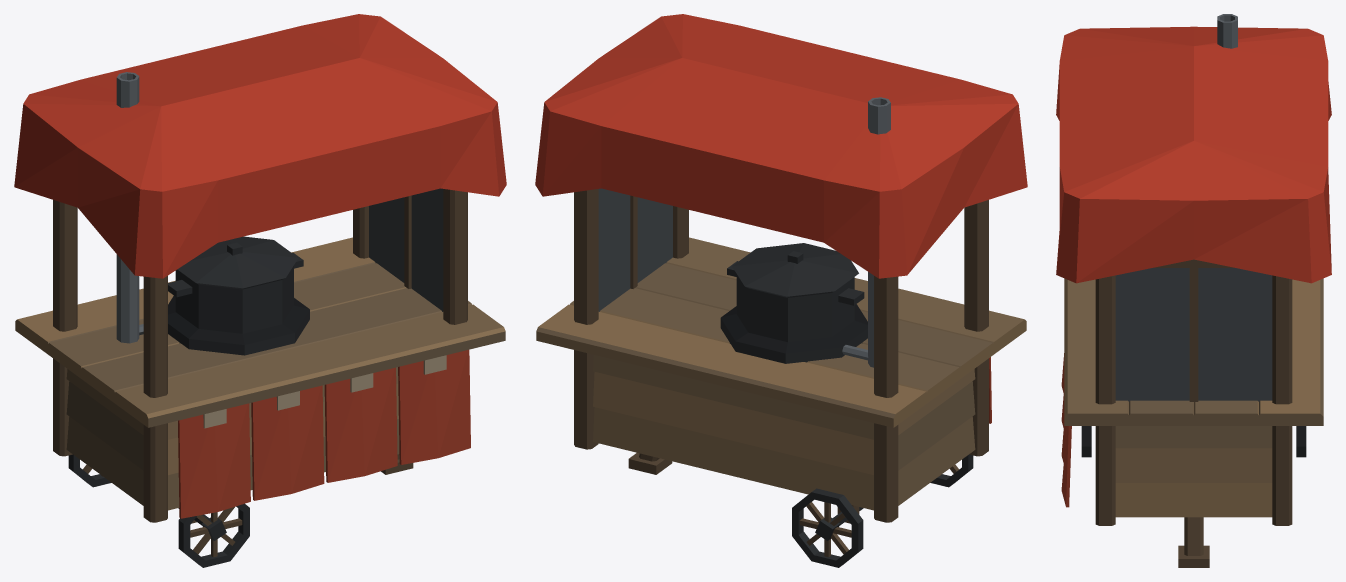
The model's file is ramen-yatai-stall-53974b.glb.
3 renders of one model, left to right at view 1: azimuth 30°, elevation 25°; view 2: azimuth 150°, elevation 25°; view 3: azimuth 270°, elevation 25°, orthographic. The views are drawn at different scales.
Visible parts, largest first — view 1: stall, stock-pot-mesh, wheel-front-mesh; view 2: stall, stock-pot-mesh, wheel-back-mesh; view 3: stall.
Part boxes in pixels (x1,y1,x2,y2): stall: (14,14,506,525); stock-pot-mesh: (168,236,303,333); wheel-front-mesh: (178,503,249,567); stall: (535,14,1027,525); stock-pot-mesh: (727,243,864,342); wheel-back-mesh: (792,488,863,567); stall: (1056,14,1331,567).
Size of the model in its own units: 1.87 by 2.1 by 1.23.
